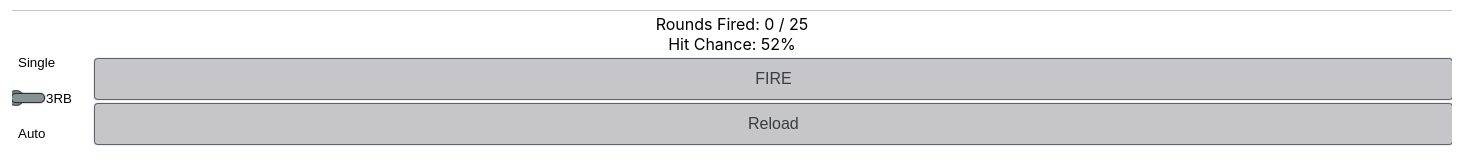
Test: Ammo Used Tally › should track multiple three round bursts
Click the button "FIRE" at (773, 79), box [95, 59, 1452, 99]
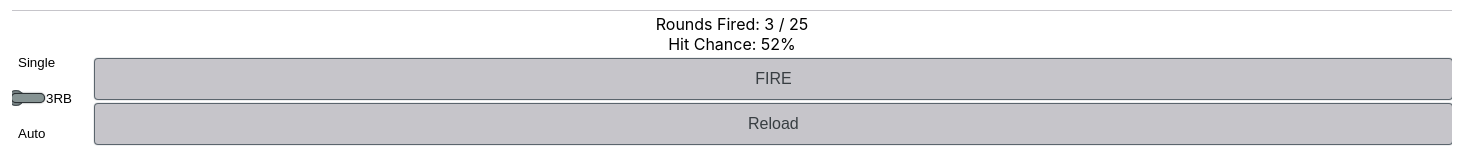
Click the button "FIRE" at (773, 79), box [95, 59, 1452, 99]
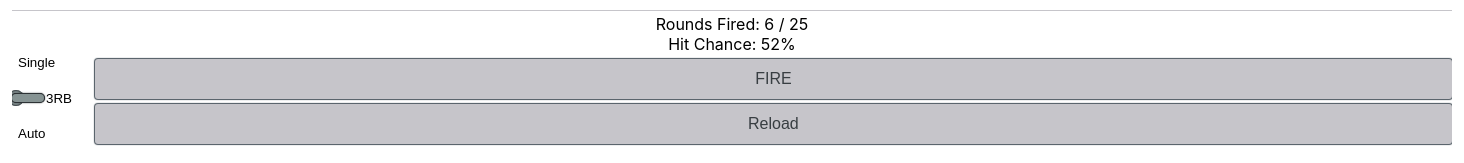
Result: the element with class "firing" shows "Rounds Fired: 6"
